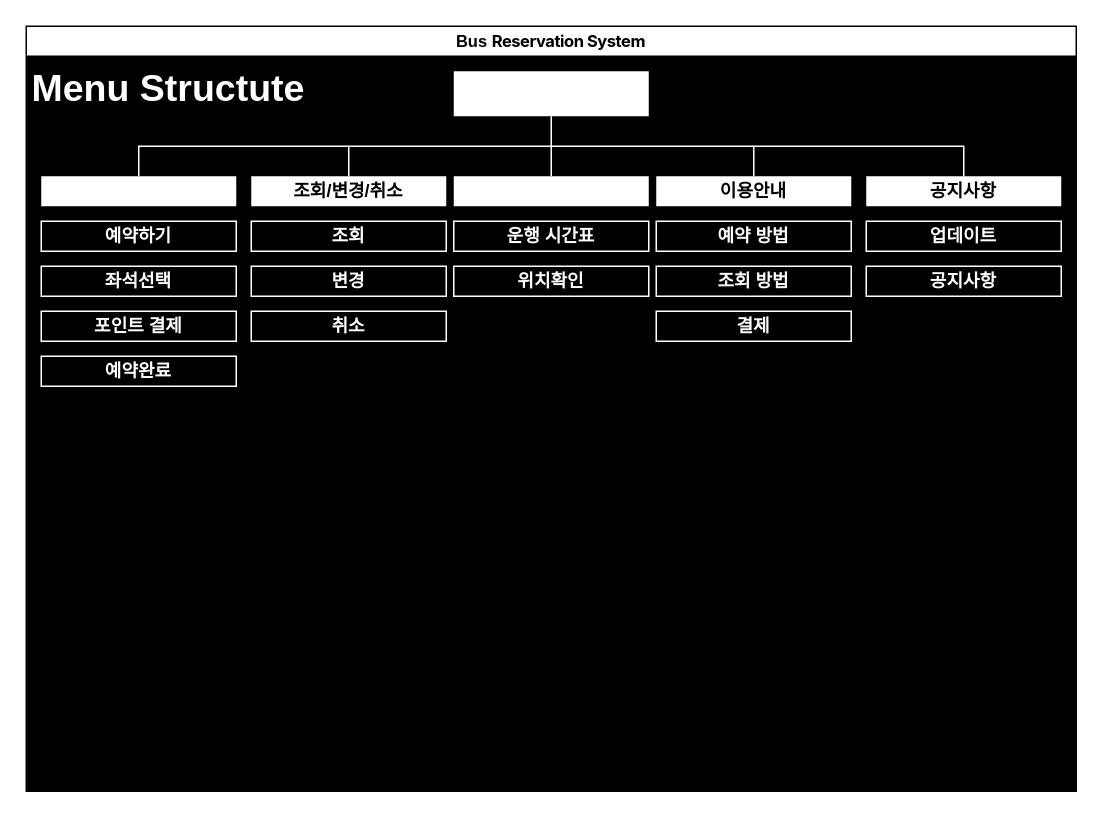
The diagram is 1103 pixels wide and 818 high, and some of its shapes have lost their labels. Here are the shapes that lost their labels. From the top down, the box of each, then its label:
(453, 70, 648, 116): Bus Reservation Project
(40, 176, 236, 206): 승차권 예매
(453, 176, 648, 206): 운행정보
